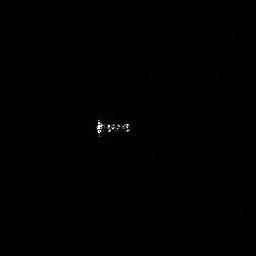ship: (92, 116, 133, 140)
